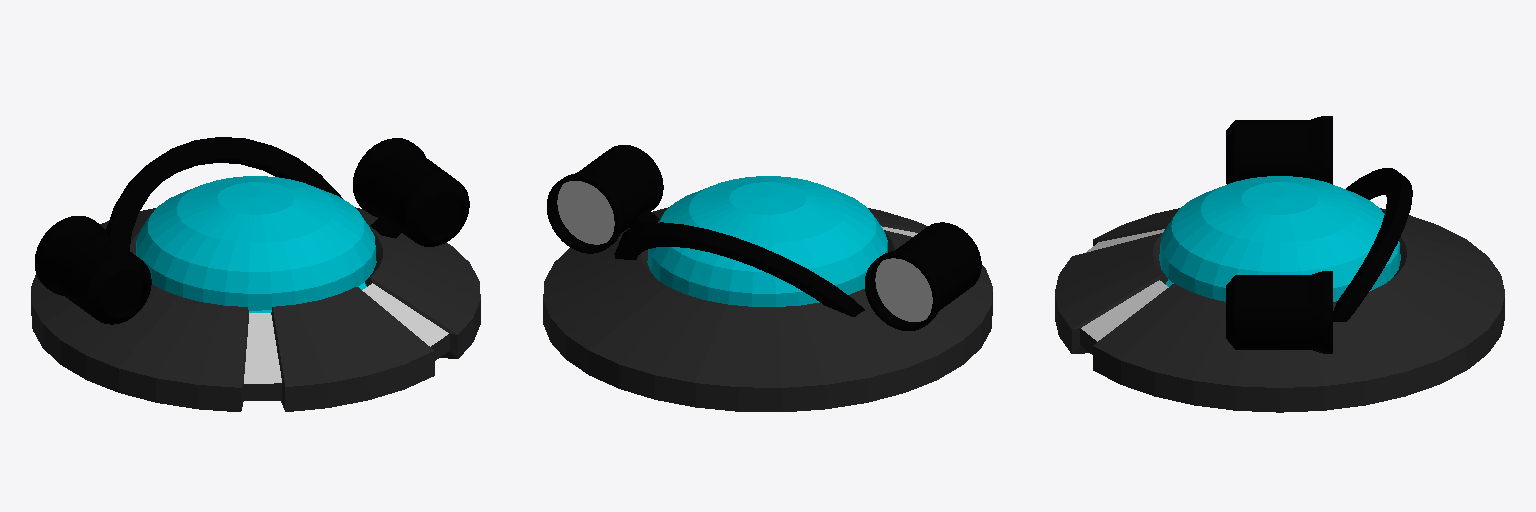
The model's file is spaceShip.obj.
3 renders of one model, left to right at view 1: azimuth 30°, elevation 25°; view 2: azimuth 150°, elevation 25°; view 3: azimuth 270°, elevation 25°, orthographic.
Parts seen in each view (by area): view 1: spaceShip_Circle; view 2: spaceShip_Circle; view 3: spaceShip_Circle.
Boxes of the visible parts, x1=… form: spaceShip_Circle: x1=31, y1=137, x2=480, y2=411; spaceShip_Circle: x1=543, y1=145, x2=992, y2=411; spaceShip_Circle: x1=1055, y1=116, x2=1504, y2=412.
Bounding box in the file's own units: 2 × 0.6991 × 2.